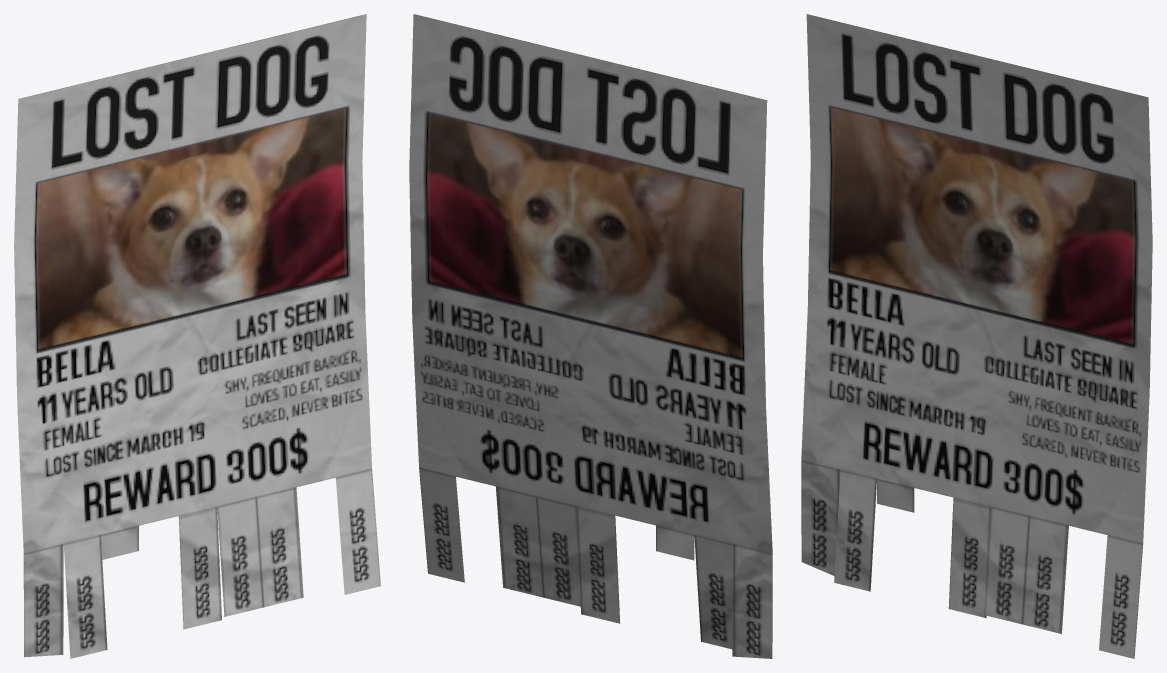
File: bella's_poster.FBX
3 views of the same model, side by side, from view 1: azimuth 30°, elevation 25°; view 2: azimuth 150°, elevation 25°; view 3: azimuth 330°, elevation 25° (orthographic). The views are drawn at different scales.
Parts seen in each view (by area): view 1: bella's_poster; view 2: bella's_poster; view 3: bella's_poster.
Part boxes in pixels (<box>): bella's_poster: <box>14,14,380,658</box>; bella's_poster: <box>409,14,772,658</box>; bella's_poster: <box>801,14,1152,658</box>.
Size of the model in its own units: 27.51 by 42.39 by 2.52.
